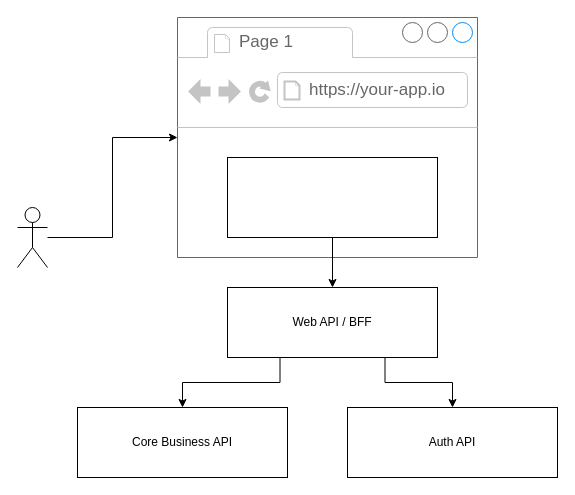
The diagram is 575 pixels wide and 495 high, and some of its shapes have lost their labels. Here are the shapes that lost their labels. From the top down, the centre of each, then its label:
At (332,197): "Frontend app".
At (32,237): "User".
